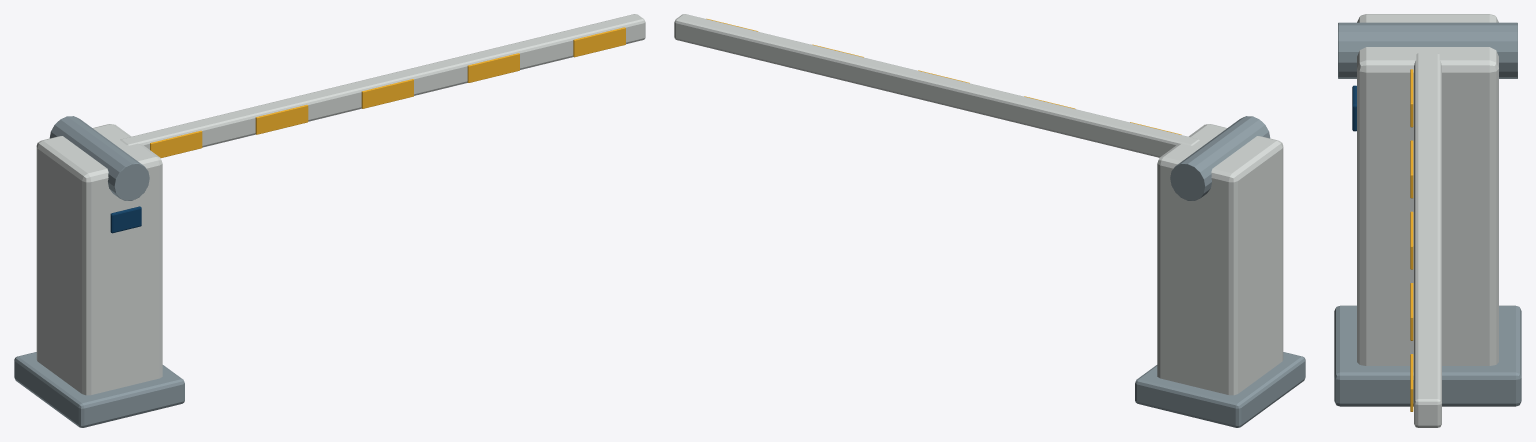
Rendered from edited.glb.
3 renders of one model, left to right at view 1: azimuth 30°, elevation 25°; view 2: azimuth 150°, elevation 25°; view 3: azimuth 270°, elevation 25°, orthographic. The views are drawn at different scales.
Parts seen in each view (by area): view 1: CABINET, ARM, BASE, HINGE_Axle, REFLECTOR.001, REFLECTOR.004, REFLECTOR.002, REFLECTOR.003, REFLECTOR, STATUS; view 2: CABINET, ARM, BASE, HINGE_Axle; view 3: CABINET, ARM, BASE, HINGE_Axle, REFLECTOR, REFLECTOR.002, STATUS, REFLECTOR.001, REFLECTOR.003, REFLECTOR.004.
Boxes of the visible parts, bbox=[...] form: CABINET: bbox=[36, 124, 162, 395]; ARM: bbox=[120, 14, 645, 149]; BASE: bbox=[14, 352, 184, 427]; HINGE_Axle: bbox=[49, 116, 149, 200]; REFLECTOR.001: bbox=[255, 105, 308, 134]; REFLECTOR.004: bbox=[573, 27, 625, 57]; REFLECTOR.002: bbox=[361, 79, 413, 108]; REFLECTOR.003: bbox=[467, 53, 519, 82]; REFLECTOR: bbox=[150, 130, 202, 157]; STATUS: bbox=[110, 206, 141, 233]; CABINET: bbox=[1157, 124, 1283, 395]; ARM: bbox=[674, 14, 1199, 157]; BASE: bbox=[1135, 352, 1305, 427]; HINGE_Axle: bbox=[1170, 116, 1270, 200]; CABINET: bbox=[1357, 14, 1498, 365]; ARM: bbox=[1414, 53, 1441, 427]; BASE: bbox=[1334, 305, 1521, 406]; HINGE_Axle: bbox=[1338, 22, 1517, 78]; REFLECTOR: bbox=[1410, 69, 1413, 127]; REFLECTOR.002: bbox=[1410, 211, 1413, 269]; STATUS: bbox=[1352, 85, 1356, 131]; REFLECTOR.001: bbox=[1410, 140, 1413, 198]; REFLECTOR.003: bbox=[1410, 283, 1413, 340]; REFLECTOR.004: bbox=[1410, 354, 1413, 411].
Size of the model in its own units: 2.53 by 1.02 by 0.5.
